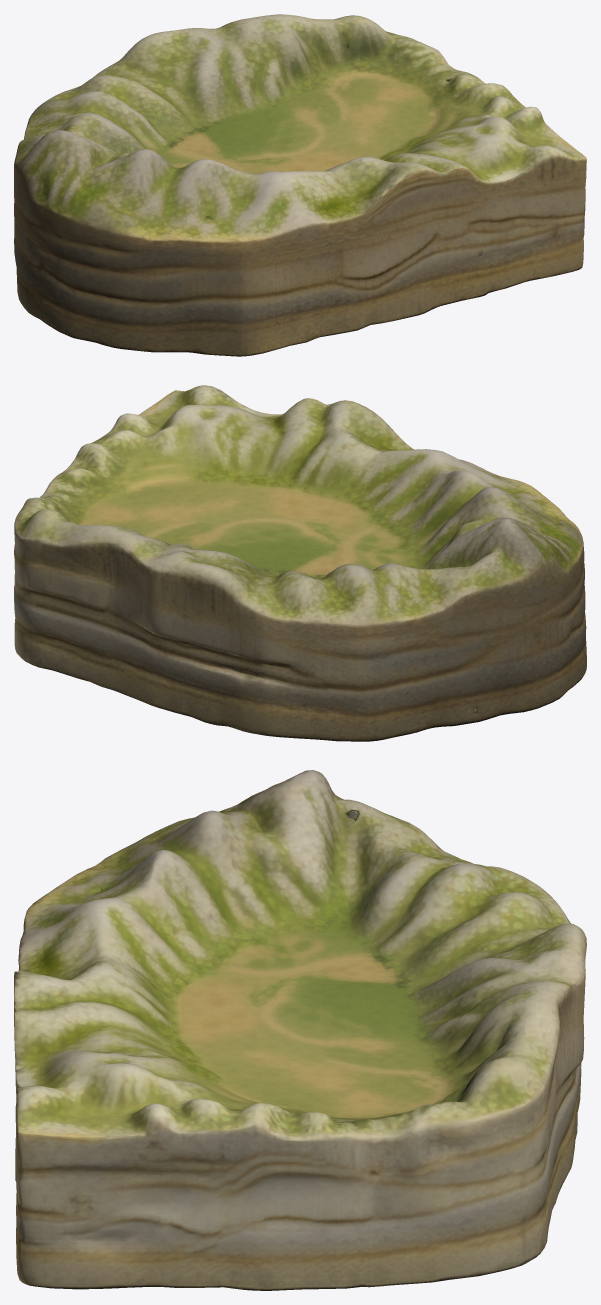
3 views of the same model, one above another, from view 1: azimuth 30°, elevation 25°; view 2: azimuth 150°, elevation 25°; view 3: azimuth 270°, elevation 25° (orthographic). The views are drawn at different scales.
Parts seen in each view (by area): view 1: world; view 2: world; view 3: world.
Boxes of the visible parts, x1,y1,x2,y2 form: world: (14,14,586,356); world: (14,385,586,741); world: (14,770,586,1290).
Size of the model in its own units: 30 by 10.5 by 22.94.
1 material, 1 textured.
